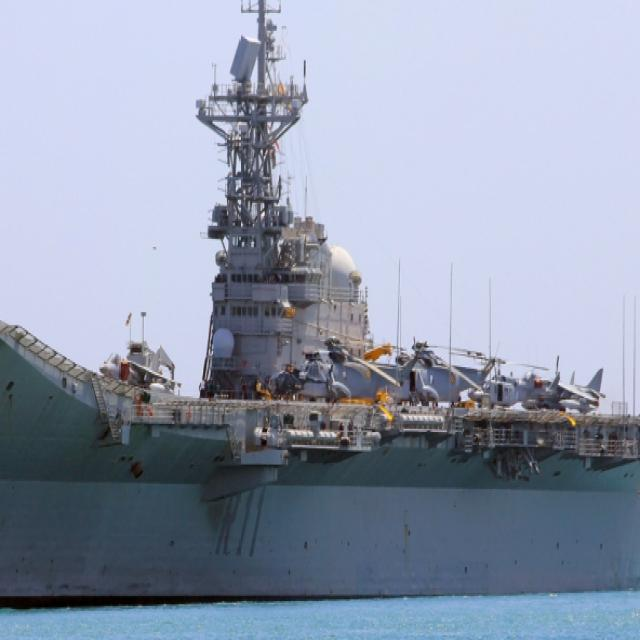Portanaves: (1, 1, 640, 622)
